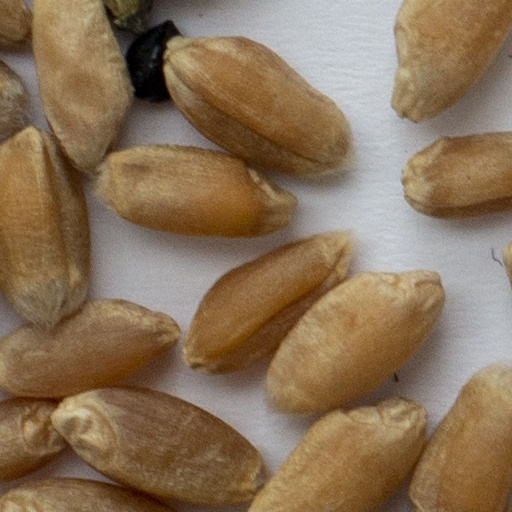Fallopia-Convolvulus-poly: (126, 16, 177, 100)
